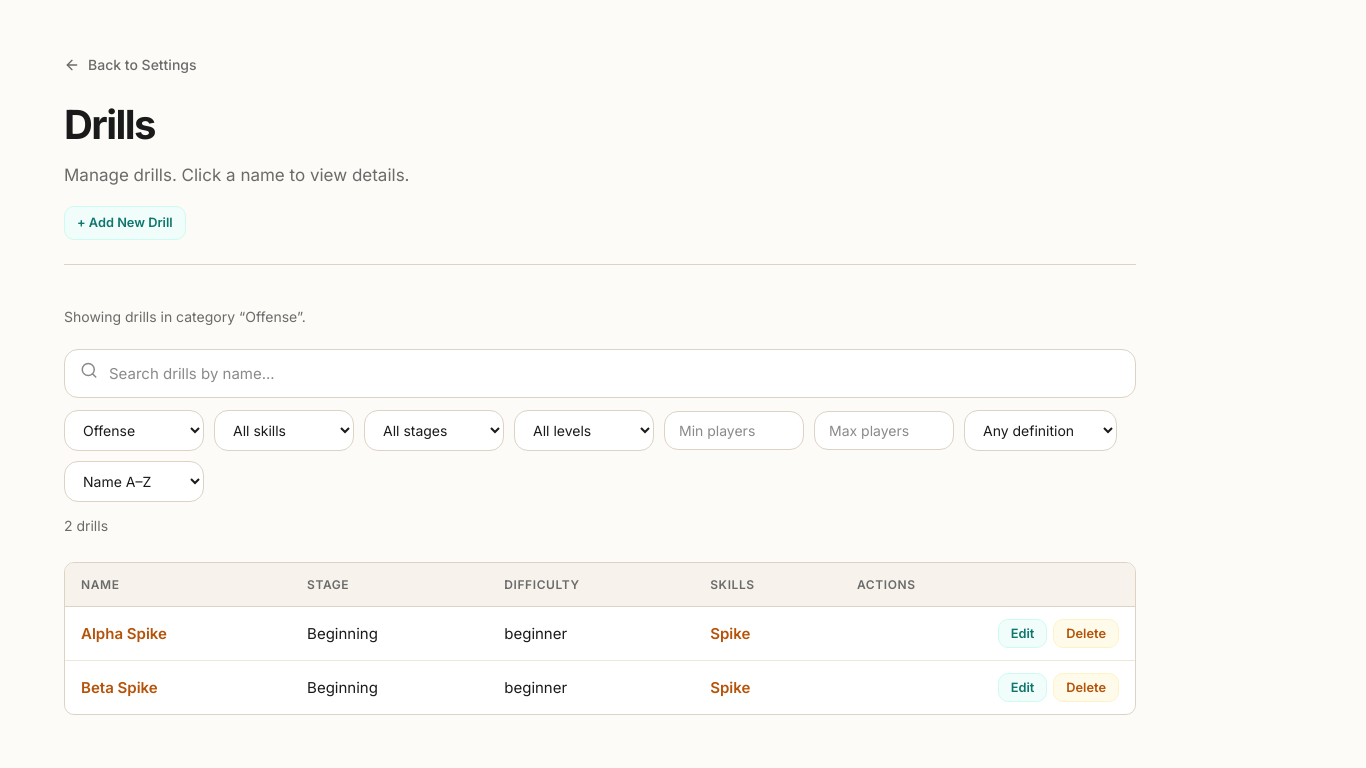
Test: settings Drills — visual definition filter › shows only drills that carry a visual definition
Expected: the link "Beta Spike" is shown, 81,678 -> 158,697
Select "Has a definition" in the dropdown named "Filter by visual definition" at x=1040, y=431, box 964,410 -> 1117,451
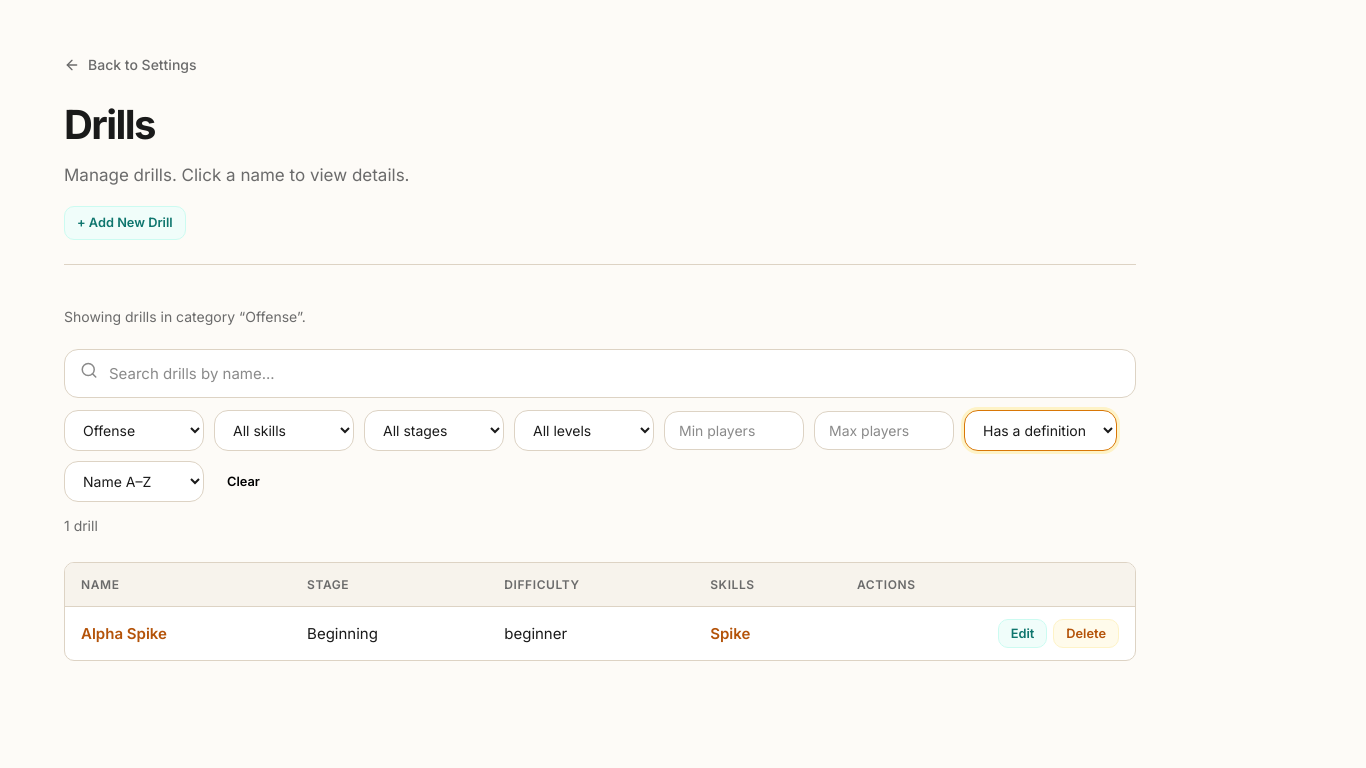
Expected: the link "Alpha Spike" is shown, 81,624 -> 167,643
Result: the link "Beta Spike" is gone
